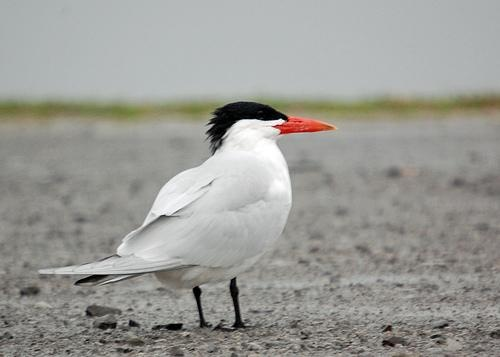bird: (39, 101, 335, 329)
